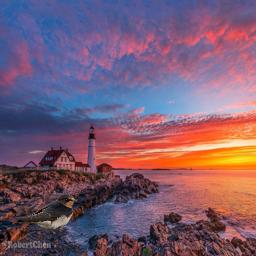Swallow: (16, 193, 77, 232)
